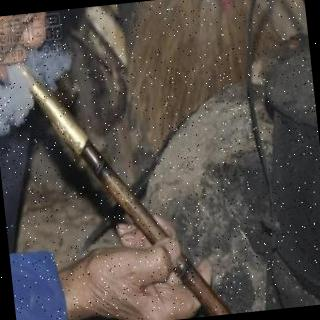smoke: (0, 38, 74, 136)
